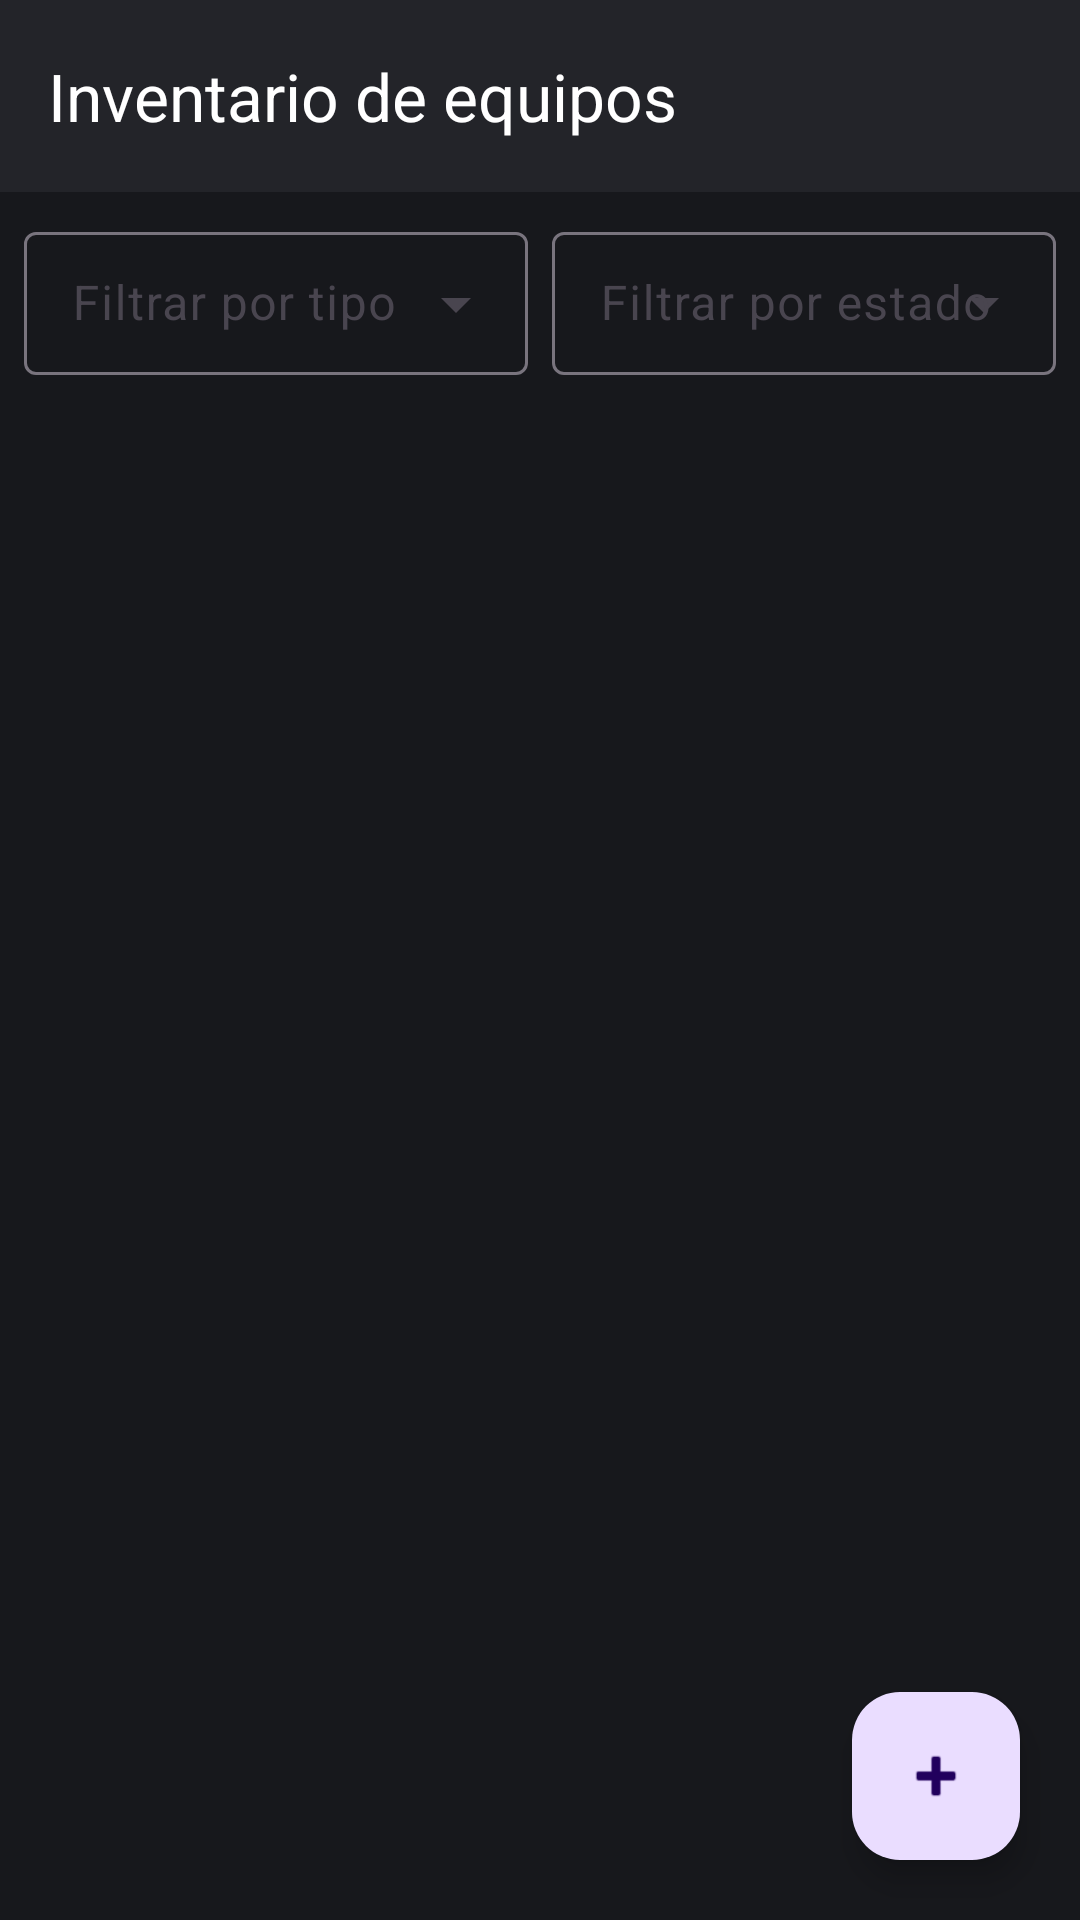

Point at icon controls on the screen. Image size 1080px×1920px, points as [x,y].
Registrar equipo: [936,1776]
